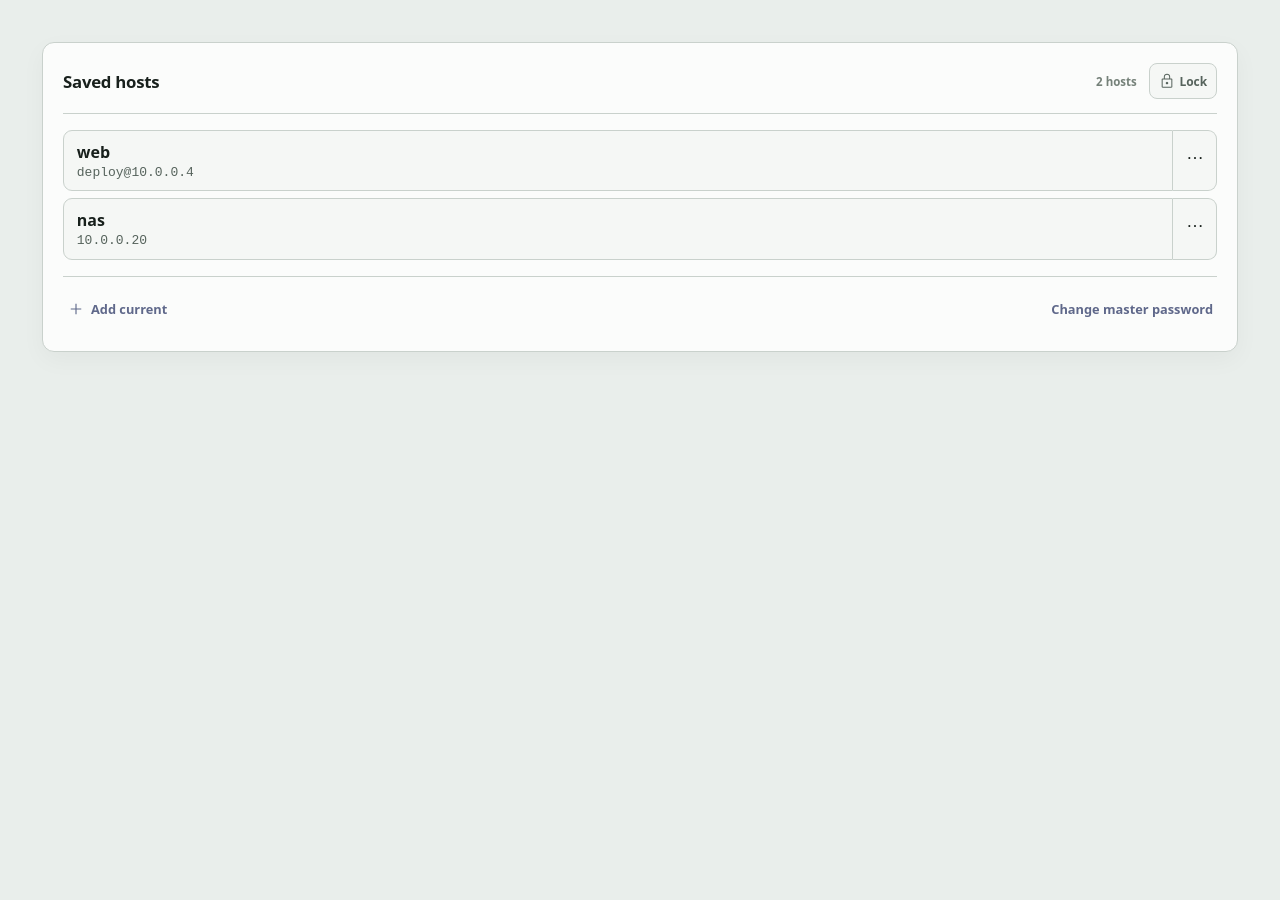
Test case: SavedHosts › refuses a master password change whose confirmation differs
Click the button "Change master password" at (1132, 309), box [1047,287,1217,331]
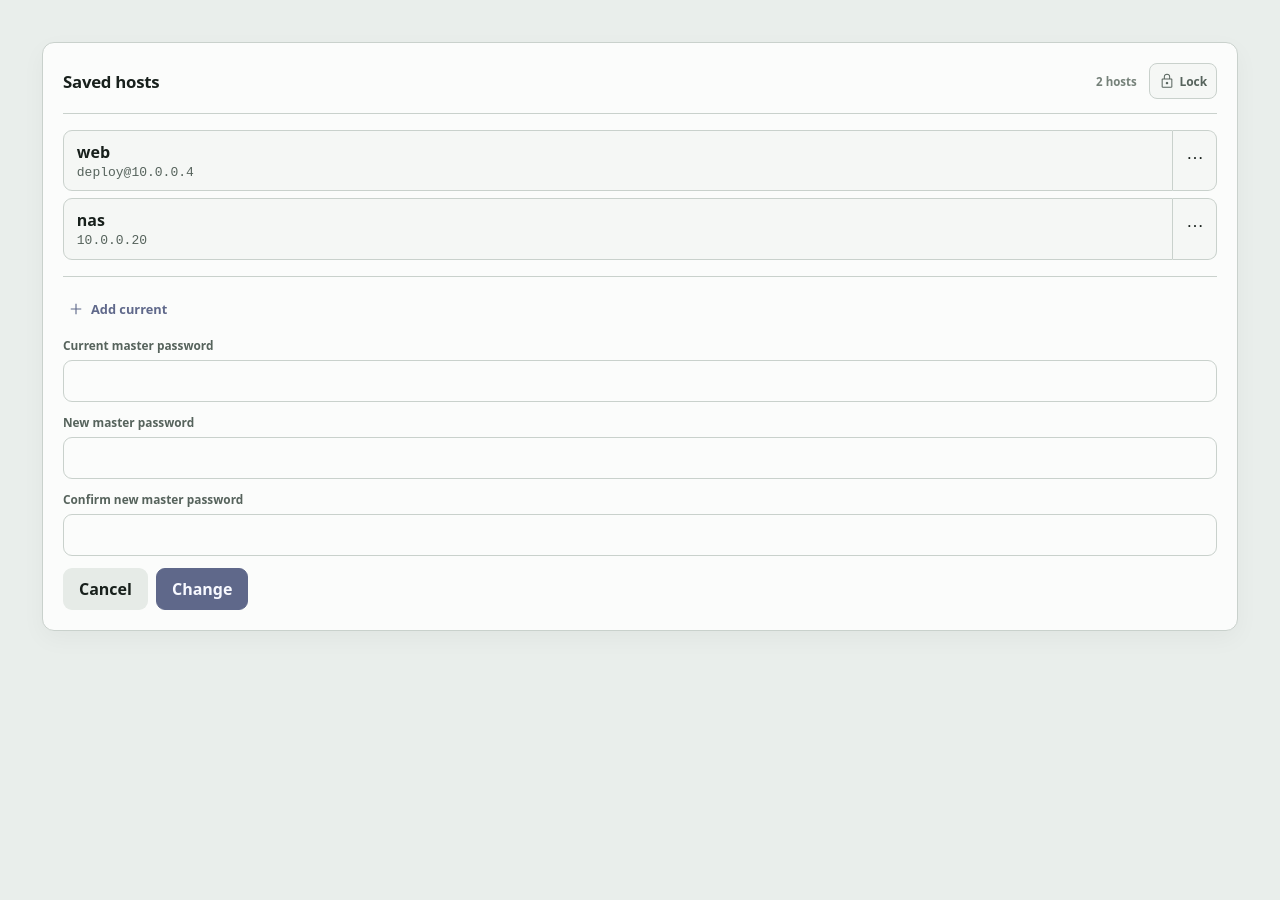
Type "old master password" into the password field labelled "Current master password" at (640, 380), box [63,360,1217,402]
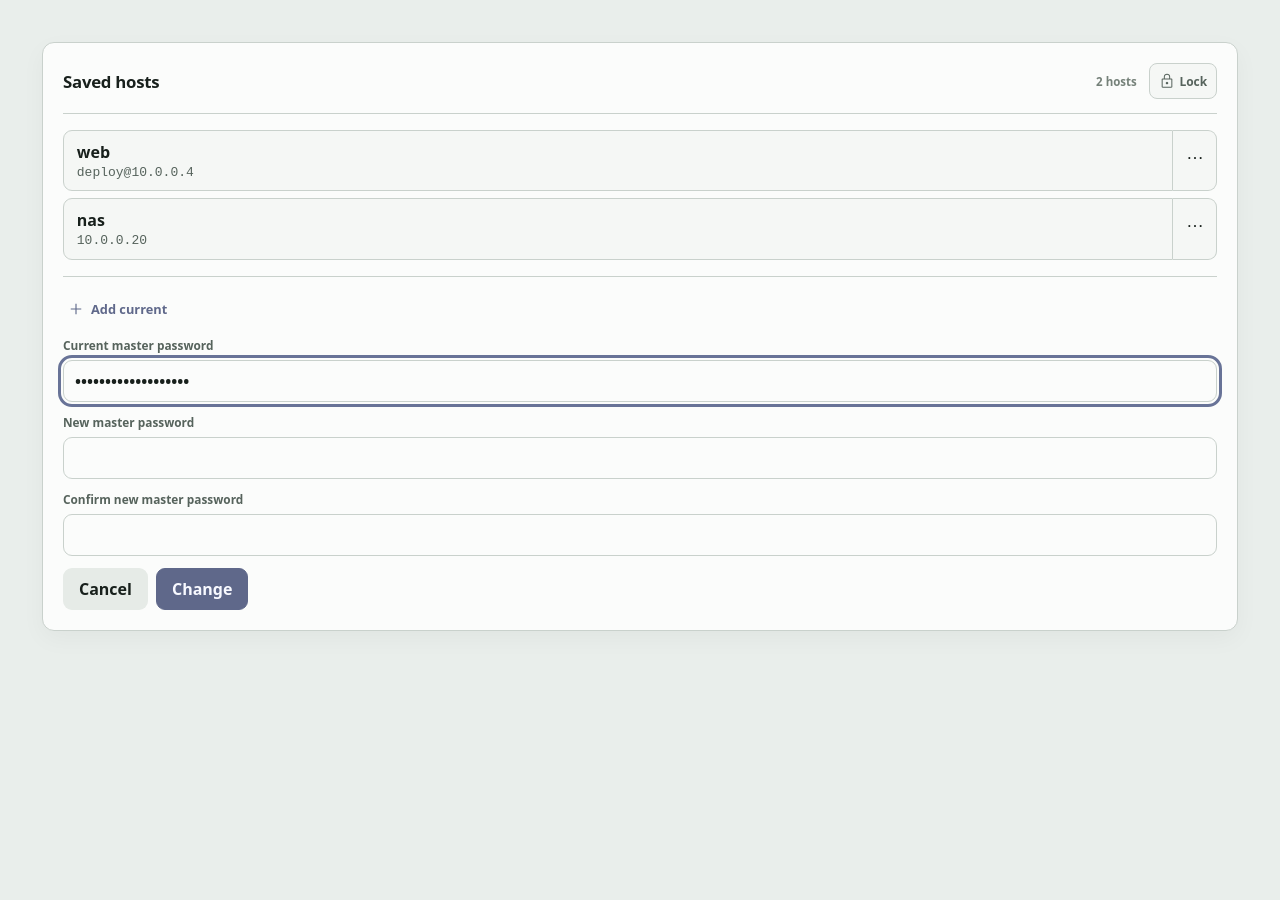
Type "one password" into the password field labelled "New master password" at (640, 458), box [63,436,1217,478]
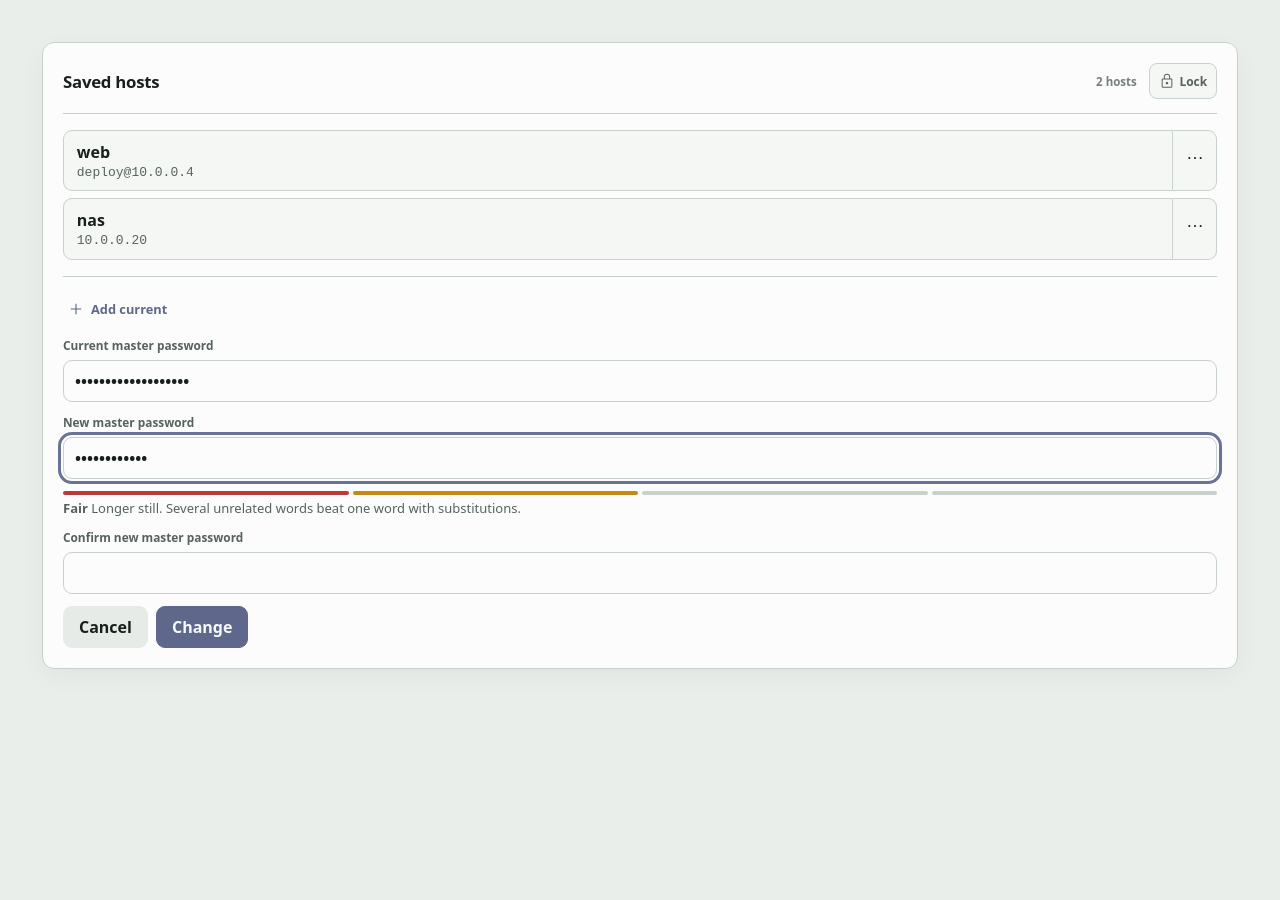
Type "another password" into the password field labelled "Confirm new master password" at (640, 572), box [63,552,1217,594]
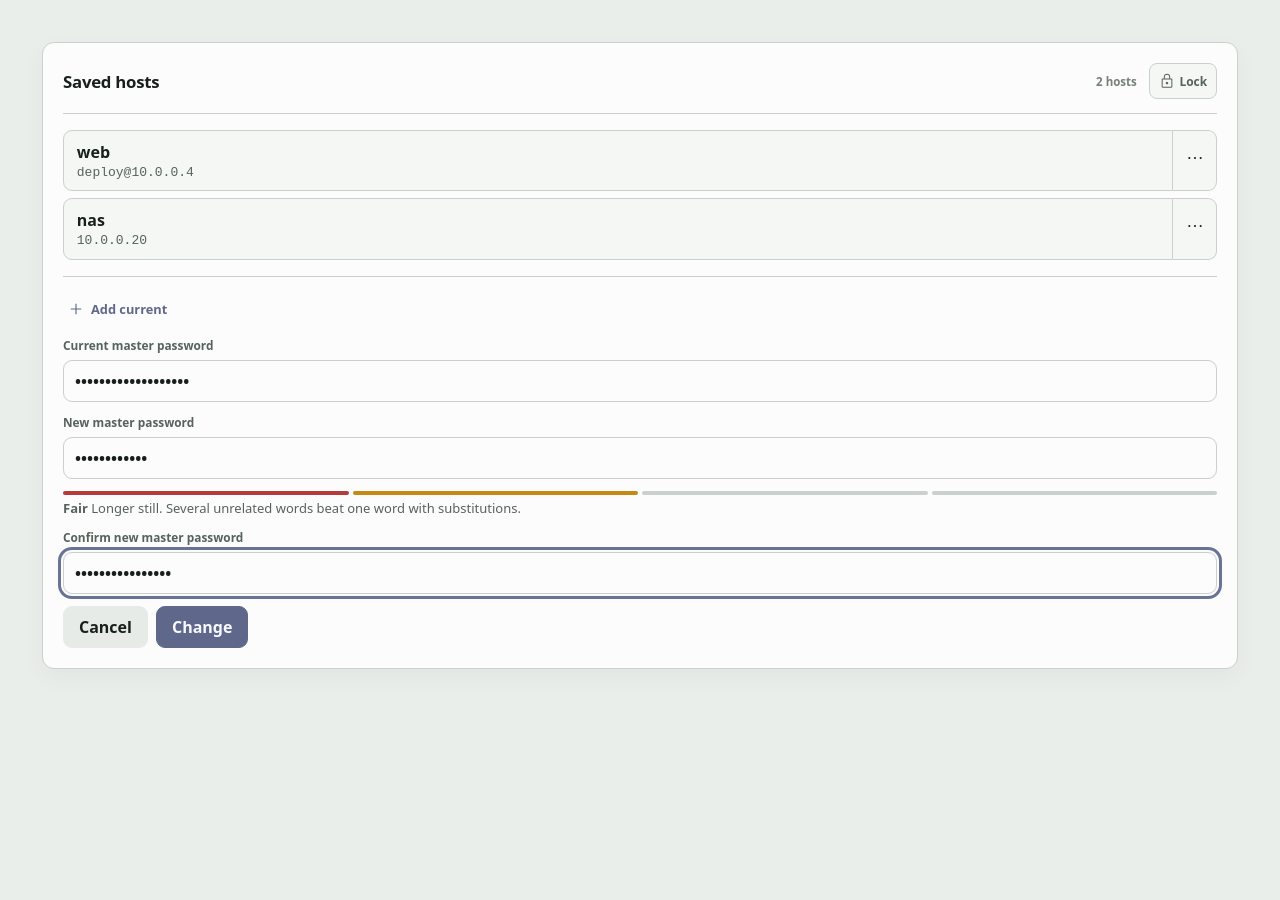
Click the button "Change" at (202, 626), box [156,606,248,648]
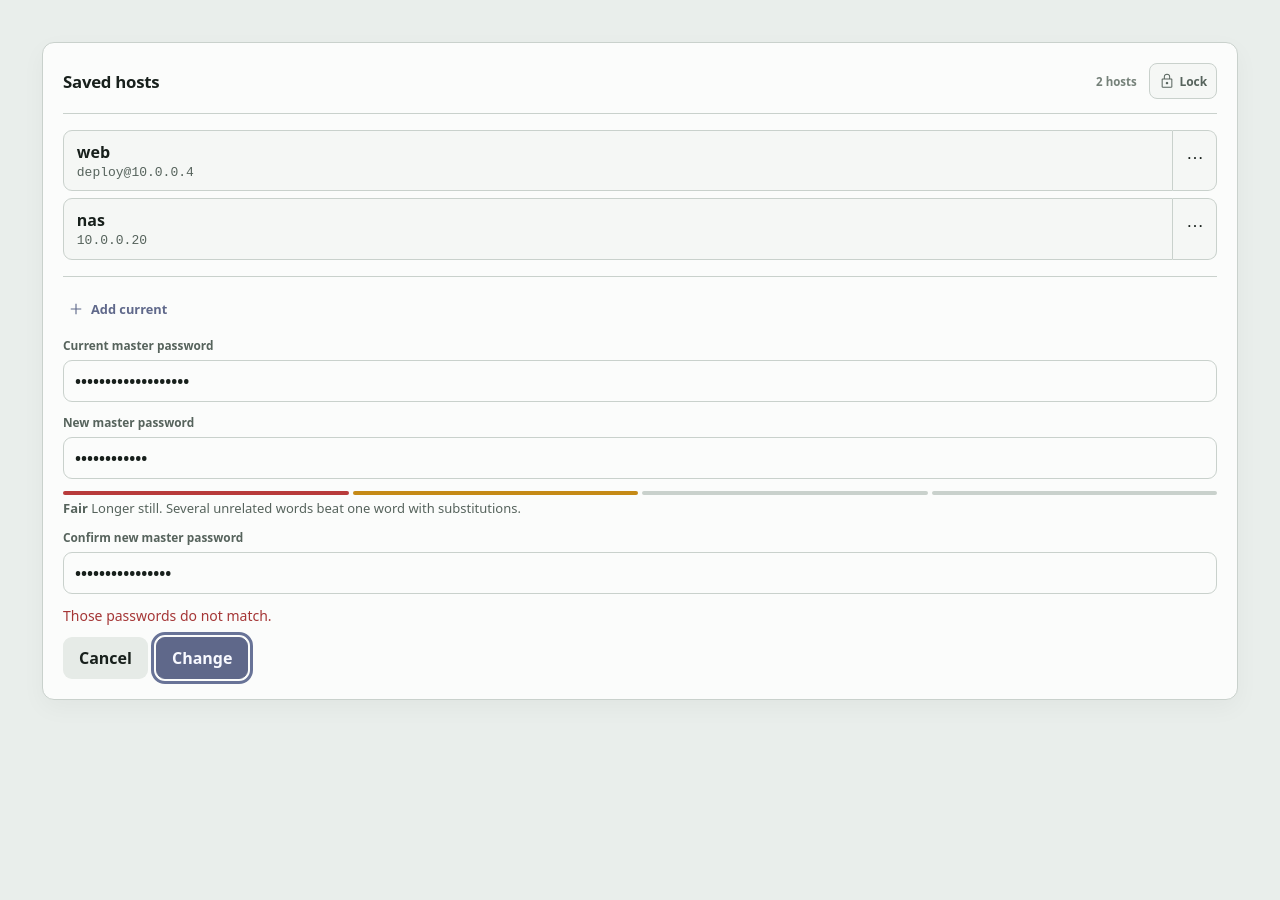
expect the text "Those passwords do not match." is shown: met, box [63,606,272,624]
